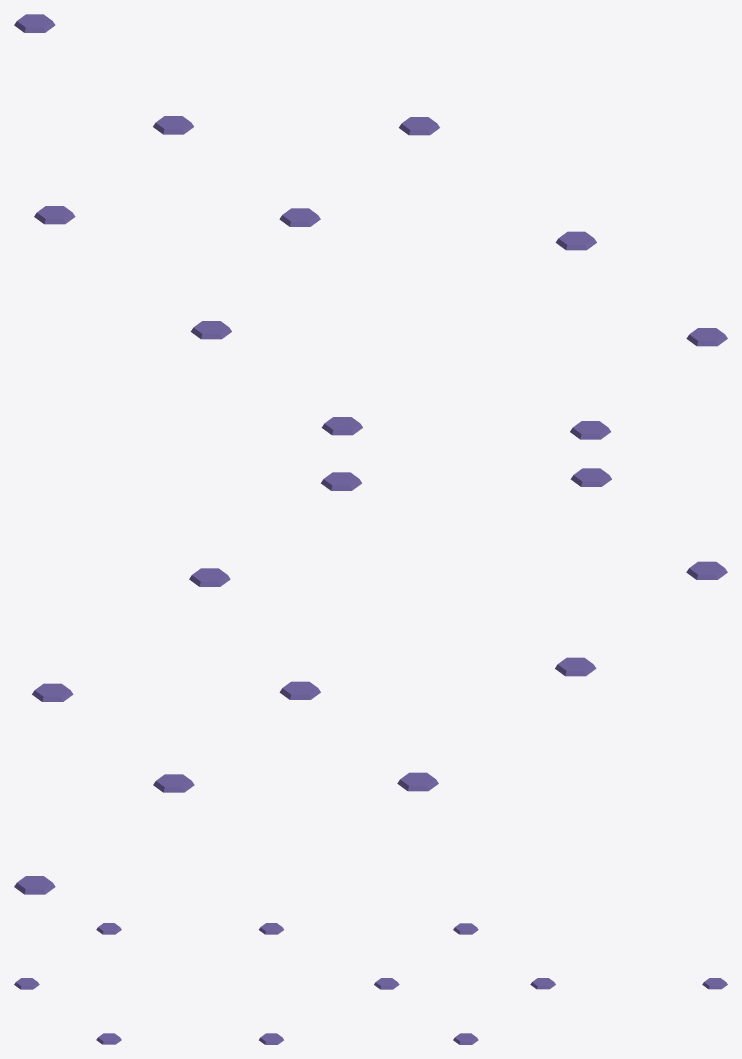
Rendered from SM_TA_Tiles.fbx.
3 views of the same model, one above another, from view 1: azimuth 30°, elevation 25°; view 2: azimuth 150°, elevation 25°; view 3: azimuth 270°, elevation 25° (orthographic). The views are drawn at different scales.
Parts seen in each view (by area): view 1: no part large enough to name; view 2: no part large enough to name; view 3: pCylinder28, pCylinder27, pCylinder20, pCylinder21, pCylinder22, pCylinder23, pCylinder24, pCylinder25, pCylinder11, pCylinder26.
Boxes of the visible parts, bbox=[...] form: pCylinder28: bbox=[702, 978, 727, 989]; pCylinder27: bbox=[530, 978, 555, 989]; pCylinder20: bbox=[259, 923, 283, 934]; pCylinder21: bbox=[96, 923, 121, 934]; pCylinder22: bbox=[259, 1033, 283, 1044]; pCylinder23: bbox=[14, 978, 39, 989]; pCylinder24: bbox=[374, 978, 399, 989]; pCylinder25: bbox=[453, 1033, 478, 1044]; pCylinder11: bbox=[96, 1033, 121, 1044]; pCylinder26: bbox=[453, 923, 478, 934].
Bounding box in the file's own units: 7.72 × 0.0807 × 19.44.
